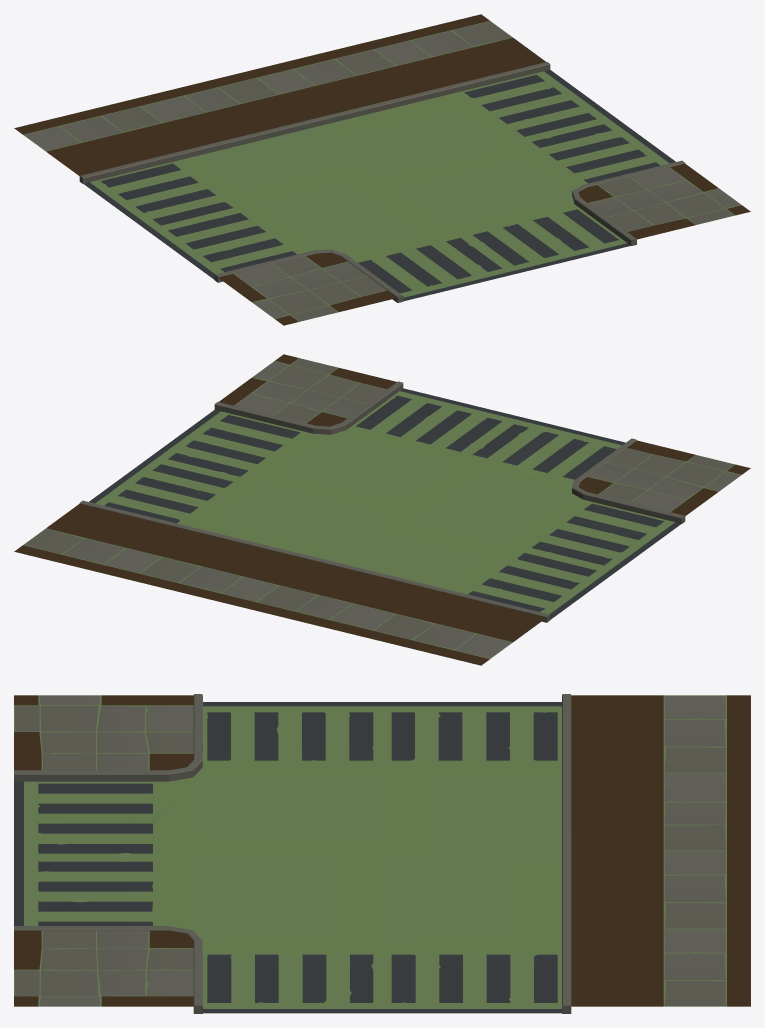
The model's file is Road_40.fbx.
3 views of the same model, one above another, from view 1: azimuth 30°, elevation 25°; view 2: azimuth 150°, elevation 25°; view 3: azimuth 270°, elevation 25° (orthographic). The views are drawn at different scales.
Visible parts, largest first — view 1: Road_40; view 2: Road_40; view 3: Road_40.
Part boxes in pixels (x1=…): Road_40: x1=14, y1=14, x2=750, y2=325; Road_40: x1=14, y1=354, x2=750, y2=665; Road_40: x1=14, y1=694, x2=750, y2=1013.
Size of the model in its own units: 12 by 0.15 by 12.
